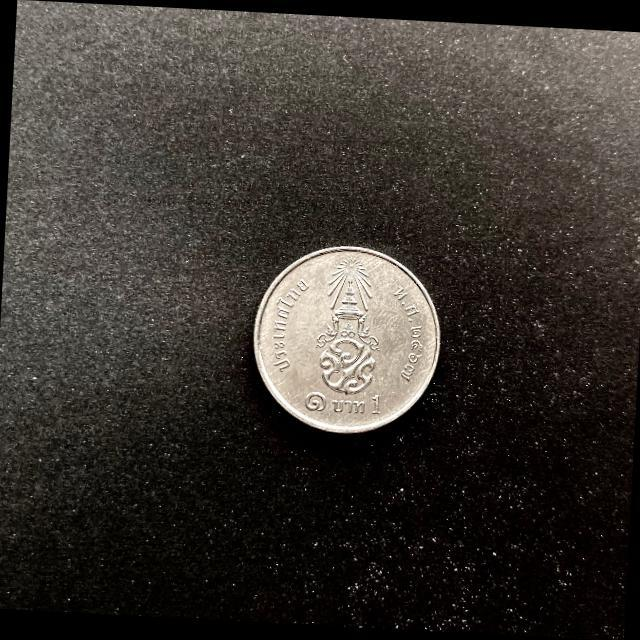1 Bath: (251, 243, 445, 437)
